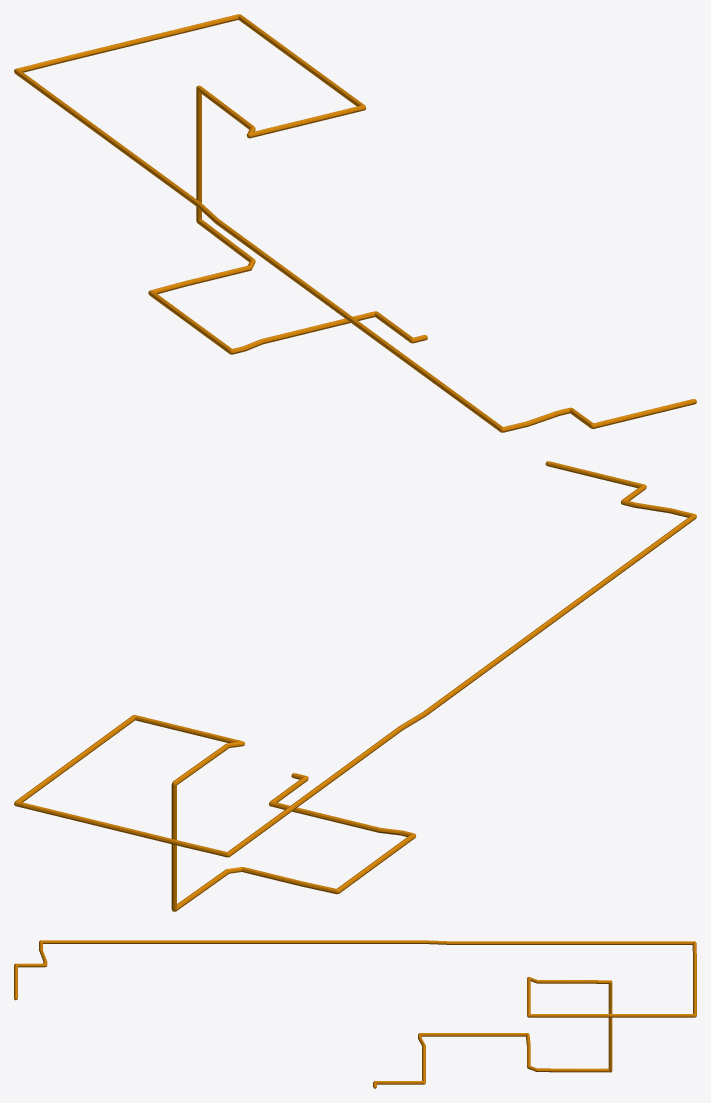
3 renders of one model, top to bottom at view 1: azimuth 30°, elevation 25°; view 2: azimuth 150°, elevation 25°; view 3: azimuth 270°, elevation 25°, orthographic. The views are drawn at different scales.
Bounding box in the file's own units: 912 × 520 × 3494.
